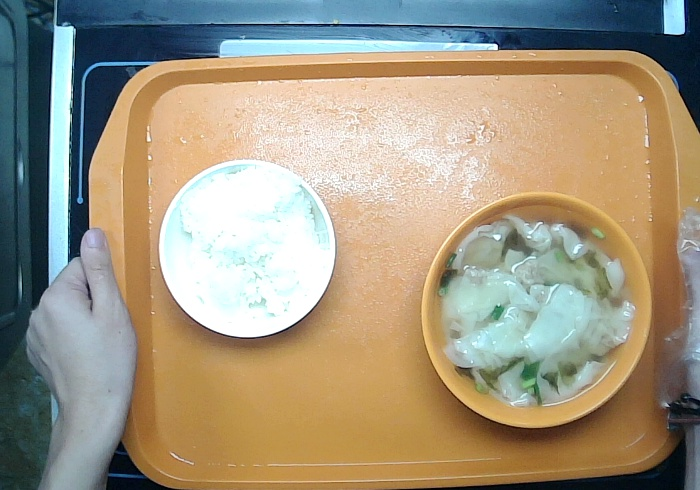NLDX-Fan_Wan: (156, 158, 337, 345)
NLDX-Hun_Tun_Wan: (417, 188, 656, 434)
